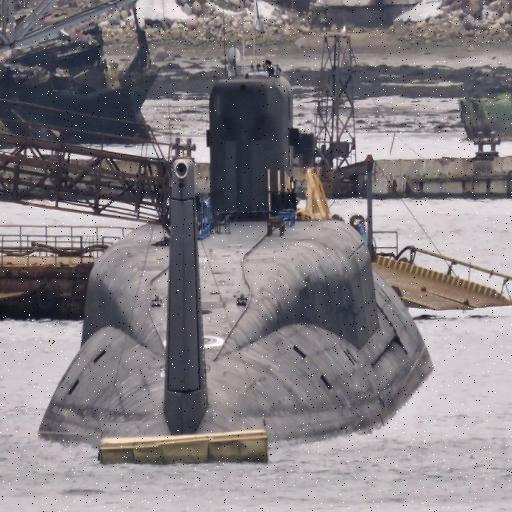submarine: (34, 60, 440, 438)
